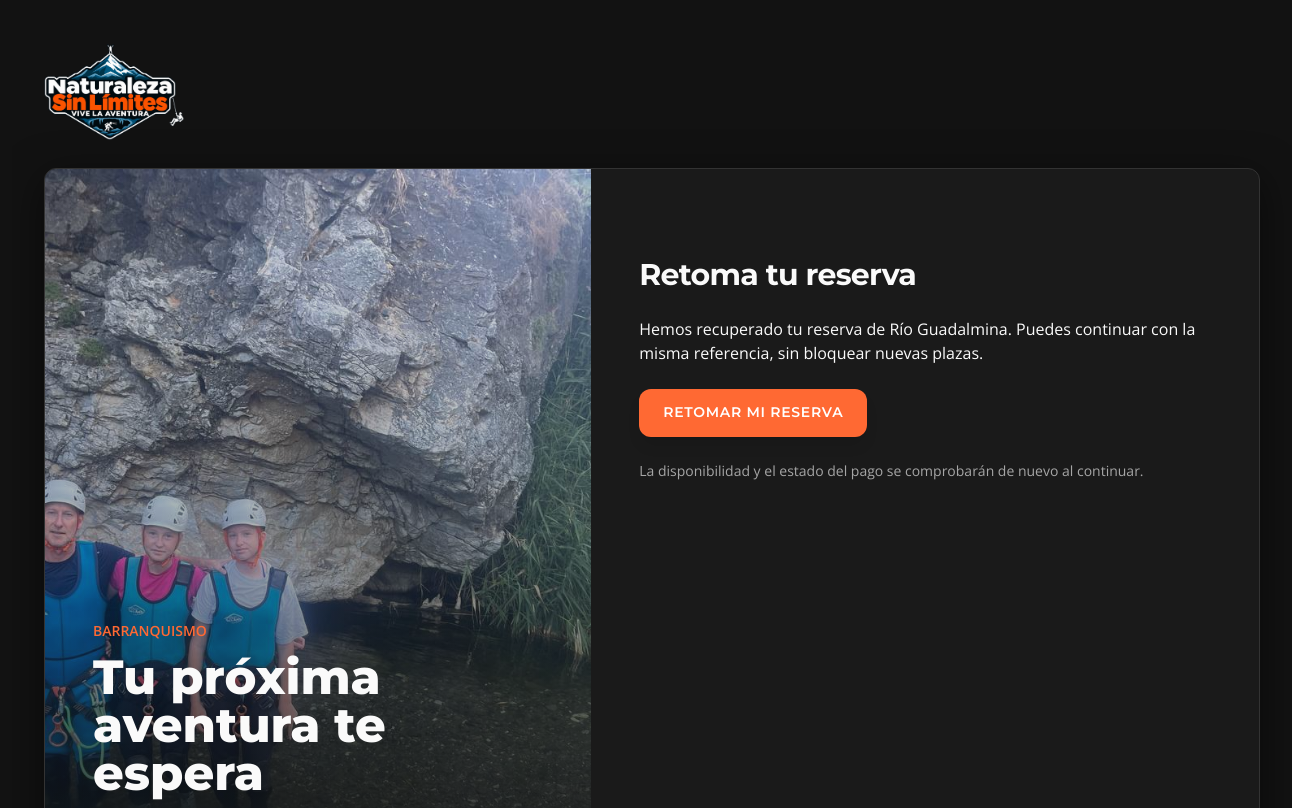
Test: recovers the existing reference even when the outing is no longer available, without presenting a new booking form
Click the button "Retomar mi reserva". click: (753, 413)
box: [639,389,868,437]
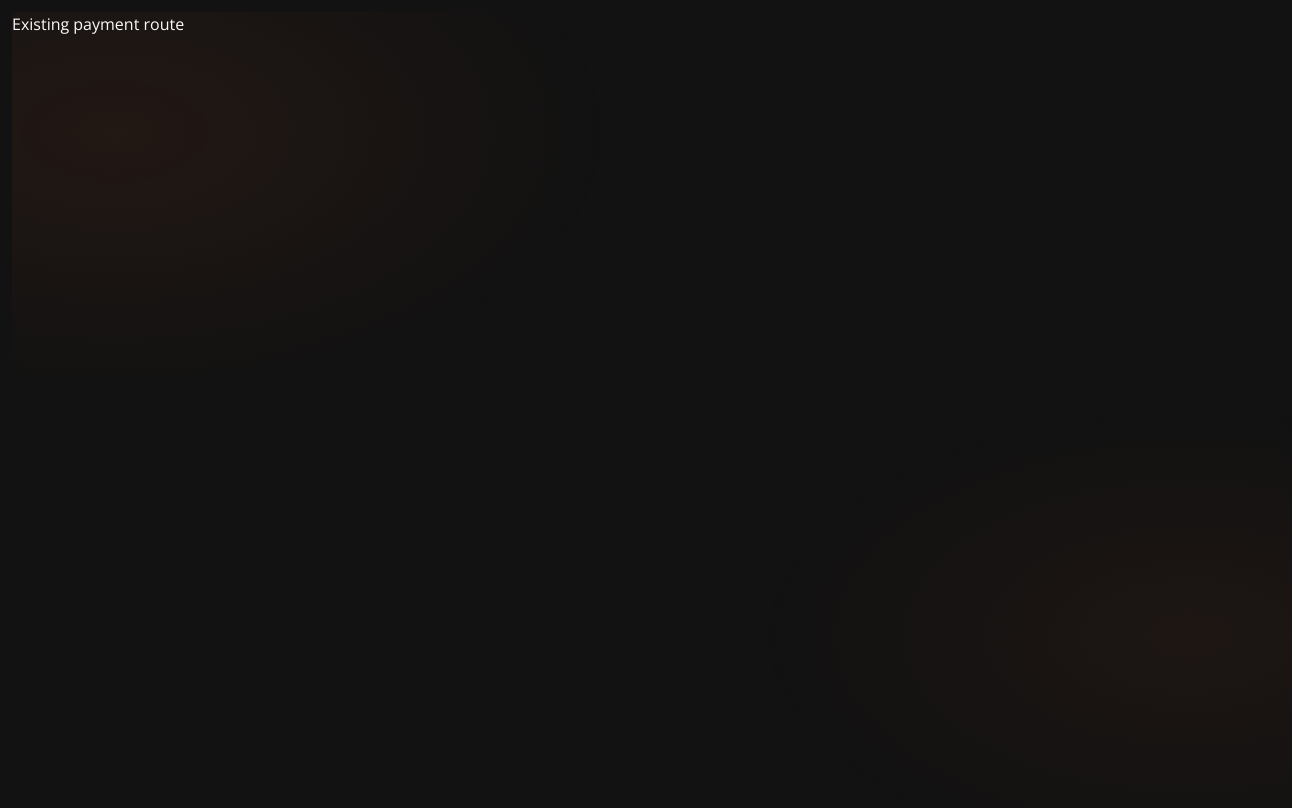
expect the text "Existing payment route" is shown: met, box [12,13,184,35]
